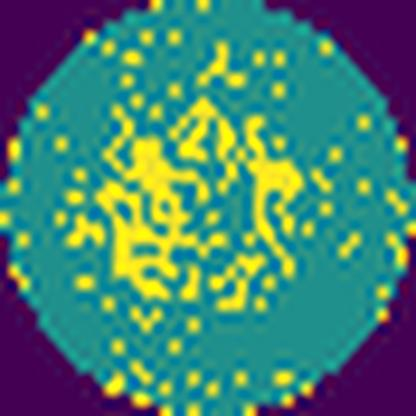Donut: (82, 80, 327, 327)
